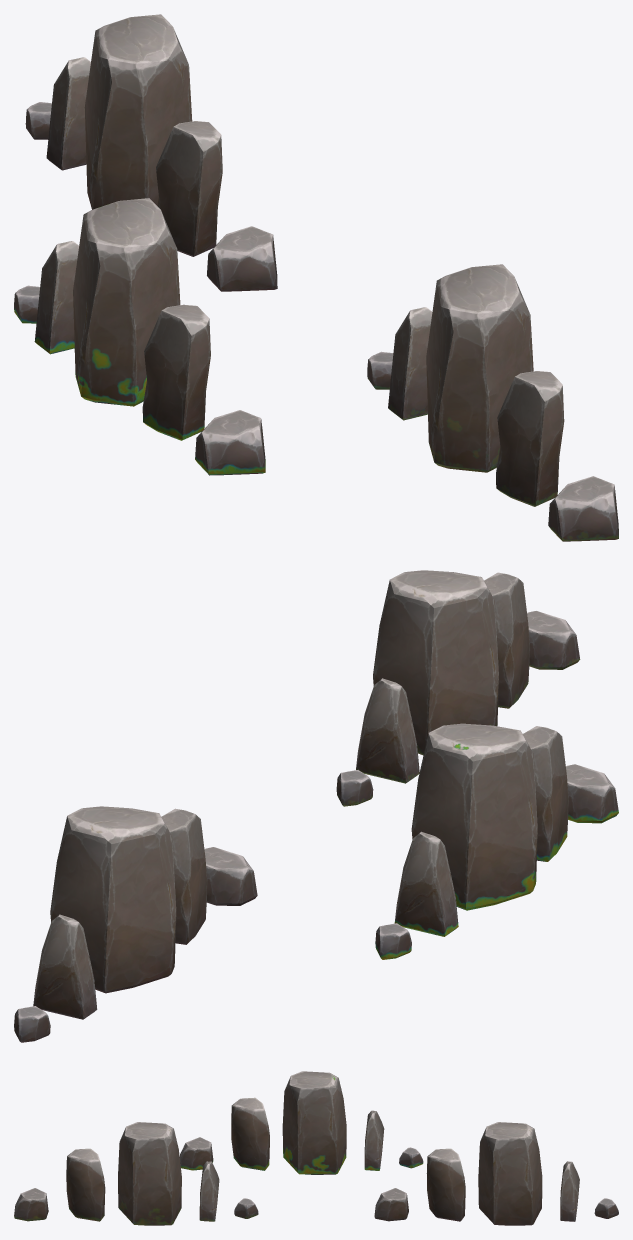
Rendered from stylizedStonesMinipack_edit_for_FBX.fbx.
3 renders of one model, top to bottom at view 1: azimuth 30°, elevation 25°; view 2: azimuth 150°, elevation 25°; view 3: azimuth 270°, elevation 25°, orthographic. The views are drawn at different scales.
Parts seen in each view (by area): view 1: Stone_5_Low.002, Stone_5_Low.001, Stone_5_Low, Stone_4_Low.002, Stone_4_Low.001, Stone_4_Low, Stone_2_Low, Stone_2_Low.002, Stone_2_Low.001, Stone_3_Low.001, Stone_3_Low.002, Stone_3_Low (+3 smaller); view 2: Stone_5_Low, Stone_5_Low.002, Stone_5_Low.001, Stone_3_Low.001, Stone_3_Low.002, Stone_3_Low, Stone_4_Low.002, Stone_4_Low.001, Stone_4_Low, Stone_2_Low.002, Stone_2_Low.001, Stone_2_Low (+3 smaller); view 3: Stone_5_Low, Stone_5_Low.002, Stone_5_Low.001, Stone_4_Low.001, Stone_4_Low.002, Stone_4_Low, Stone_3_Low, Stone_3_Low.001, Stone_3_Low.002, Stone_2_Low, Stone_2_Low.001, Stone_2_Low.002 (+3 smaller).
Boxes of the visible parts, left/top/right/bottom form: Stone_5_Low.002: left=73, top=198, right=180, bottom=406; Stone_5_Low.001: left=426, top=264, right=533, bottom=472; Stone_5_Low: left=84, top=14, right=192, bottom=209; Stone_4_Low.002: left=142, top=304, right=210, bottom=440; Stone_4_Low.001: left=496, top=371, right=564, bottom=506; Stone_4_Low: left=156, top=121, right=222, bottom=256; Stone_2_Low: left=207, top=226, right=277, bottom=291; Stone_2_Low.002: left=195, top=410, right=265, bottom=475; Stone_2_Low.001: left=548, top=476, right=618, bottom=541; Stone_3_Low.001: left=388, top=307, right=432, bottom=420; Stone_3_Low.002: left=34, top=241, right=78, bottom=354; Stone_3_Low: left=46, top=57, right=90, bottom=170; Stone_5_Low: left=50, top=806, right=176, bottom=993; Stone_5_Low.002: left=411, top=723, right=537, bottom=910; Stone_5_Low.001: left=373, top=570, right=498, bottom=755; Stone_3_Low.001: left=356, top=678, right=419, bottom=783; Stone_3_Low.002: left=394, top=831, right=458, bottom=936; Stone_3_Low: left=33, top=914, right=97, bottom=1019; Stone_4_Low.002: left=523, top=726, right=568, bottom=861; Stone_4_Low.001: left=484, top=572, right=530, bottom=708; Stone_4_Low: left=161, top=808, right=207, bottom=944; Stone_2_Low.002: left=565, top=764, right=618, bottom=823; Stone_2_Low.001: left=527, top=611, right=580, bottom=669; Stone_2_Low: left=204, top=847, right=257, bottom=905; Stone_5_Low: left=478, top=1122, right=542, bottom=1225; Stone_5_Low.002: left=282, top=1071, right=346, bottom=1174; Stone_5_Low.001: left=118, top=1122, right=181, bottom=1225; Stone_4_Low.001: left=66, top=1148, right=105, bottom=1221; Stone_4_Low.002: left=231, top=1097, right=269, bottom=1170; Stone_4_Low: left=426, top=1148, right=465, bottom=1221; Stone_3_Low: left=560, top=1161, right=579, bottom=1221; Stone_3_Low.001: left=199, top=1161, right=219, bottom=1221; Stone_3_Low.002: left=364, top=1110, right=384, bottom=1170; Stone_2_Low: left=374, top=1188, right=408, bottom=1221; Stone_2_Low.001: left=14, top=1188, right=48, bottom=1221; Stone_2_Low.002: left=179, top=1137, right=213, bottom=1170.
Size of the model in its own units: 304 by 166 by 1007.
